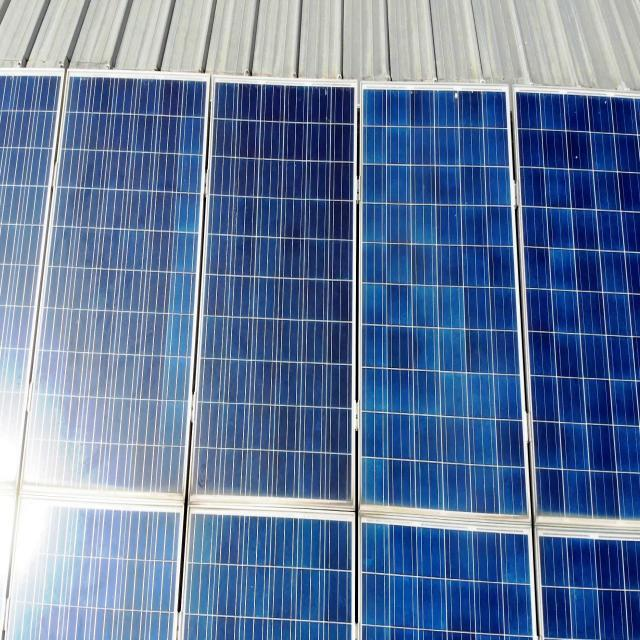faulty: (516, 91, 640, 521)
no faulty: (3, 71, 206, 512), (353, 82, 539, 530), (200, 82, 362, 517)
